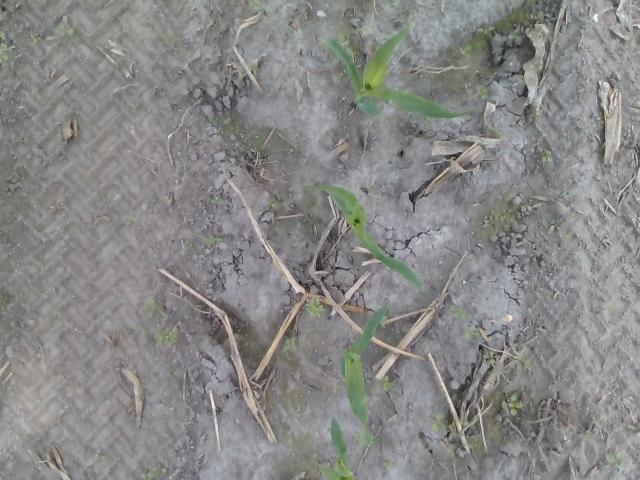Maize: (320, 28, 472, 120), (300, 183, 422, 290), (339, 302, 389, 454), (307, 412, 355, 480)
Weeds: (604, 450, 626, 474), (52, 12, 74, 36), (428, 412, 450, 435), (543, 212, 585, 224), (505, 392, 524, 418), (306, 297, 328, 319), (154, 327, 178, 346), (142, 462, 166, 480), (338, 34, 356, 57), (145, 298, 163, 318), (248, 0, 276, 12), (282, 336, 300, 354), (448, 302, 466, 320), (473, 80, 489, 100), (482, 350, 501, 366), (0, 28, 8, 64), (246, 58, 262, 75), (264, 197, 284, 210), (382, 374, 396, 392), (498, 188, 516, 202), (476, 24, 496, 36), (204, 234, 223, 246), (516, 357, 535, 369), (94, 448, 108, 464), (540, 149, 554, 164), (461, 42, 475, 56), (526, 107, 540, 120), (382, 456, 394, 471), (506, 28, 520, 40), (464, 329, 479, 340), (207, 114, 220, 126), (459, 416, 470, 430), (468, 437, 479, 450), (30, 34, 44, 44), (125, 215, 137, 226), (0, 294, 8, 310), (384, 0, 402, 7), (494, 212, 506, 222), (183, 238, 194, 248), (380, 315, 388, 328), (425, 116, 434, 124), (634, 430, 640, 440)
